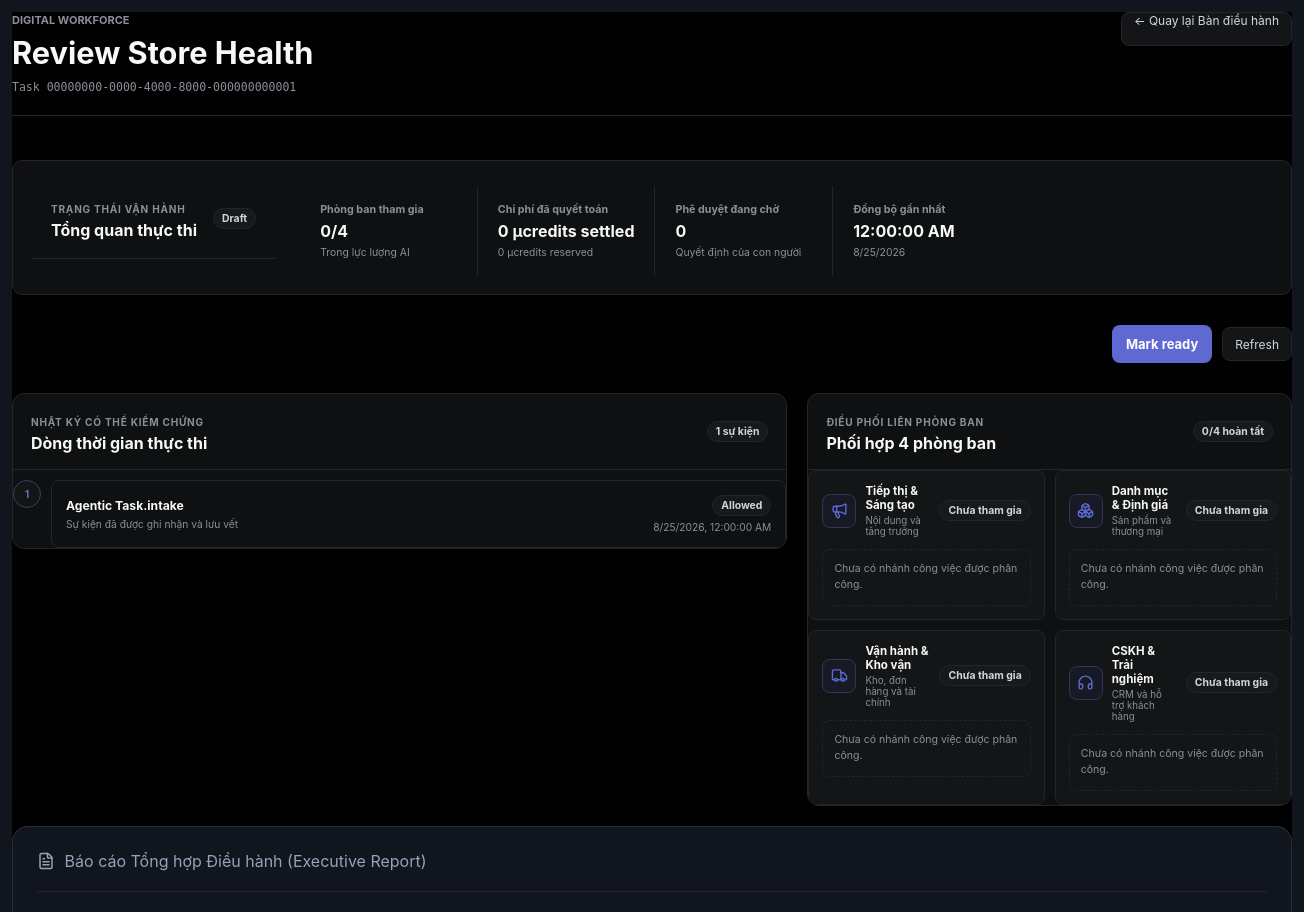
Test: AgenticTaskDetailPage › preserves a safe transition error after refreshing authoritative state
This screenshot has width=1304, height=912.
Click the button "Mark ready" at (1162, 344), box [1112,325,1212,363]
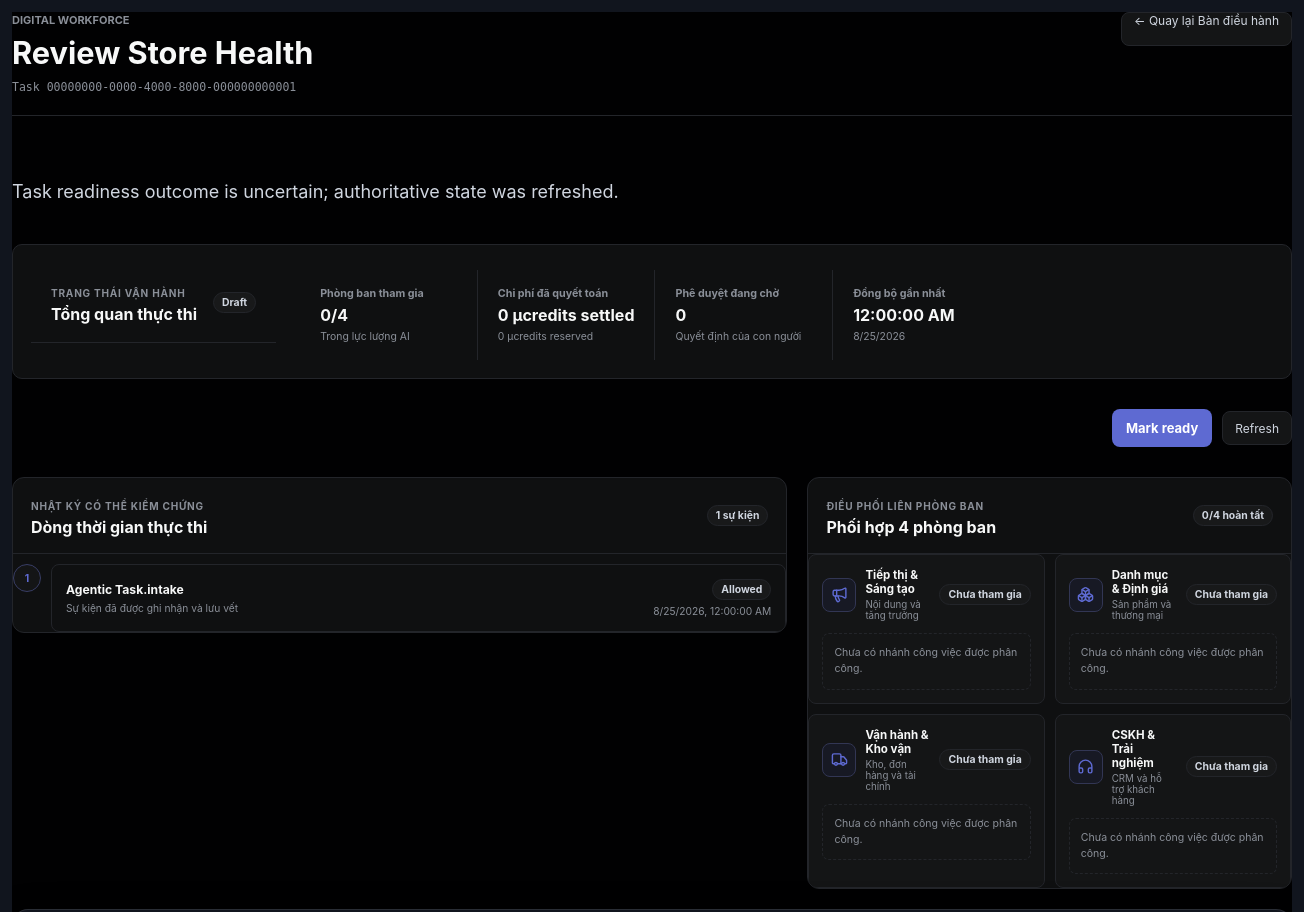
Expected: the button "Mark ready" is enabled, [1112,409,1212,447]
Expected: the message reads "Task readiness outcome is uncertain; authoritative state was refreshed.", [12,181,619,202]
